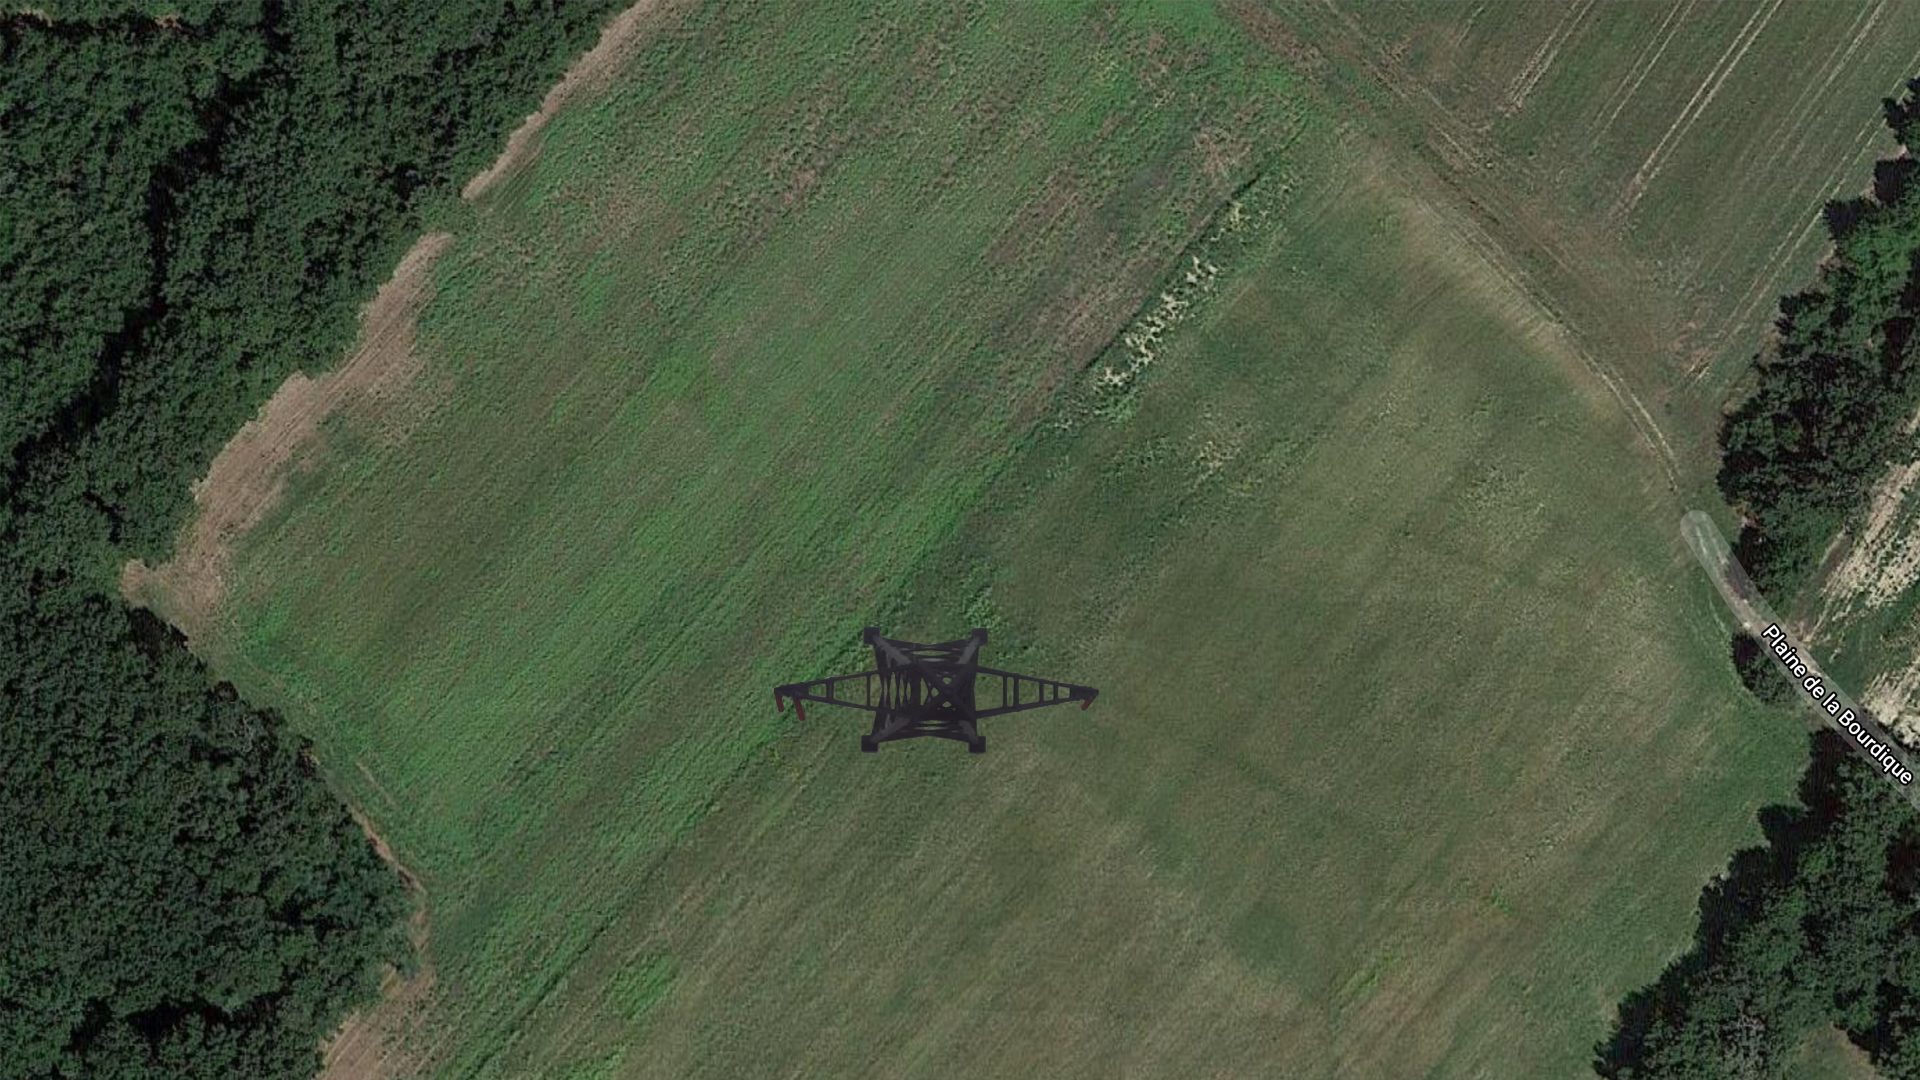pylon_phy: (771, 659, 1101, 727)
